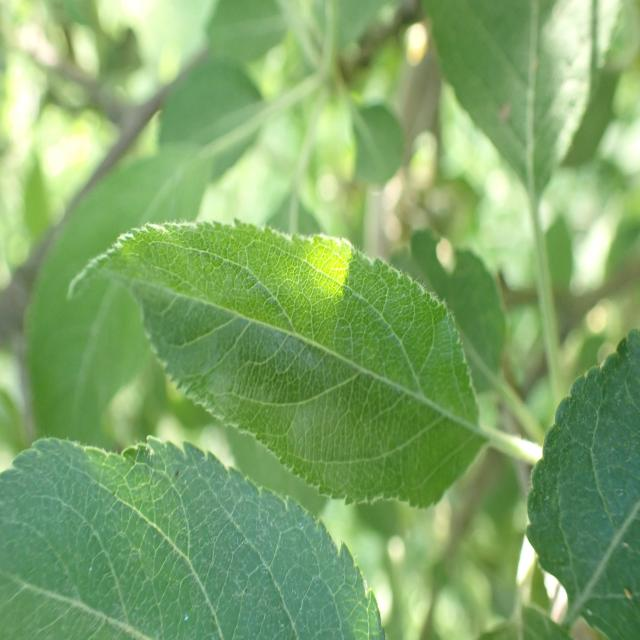healthy: (68, 218, 485, 510), (2, 434, 386, 640), (421, 0, 638, 195), (524, 328, 640, 640)
